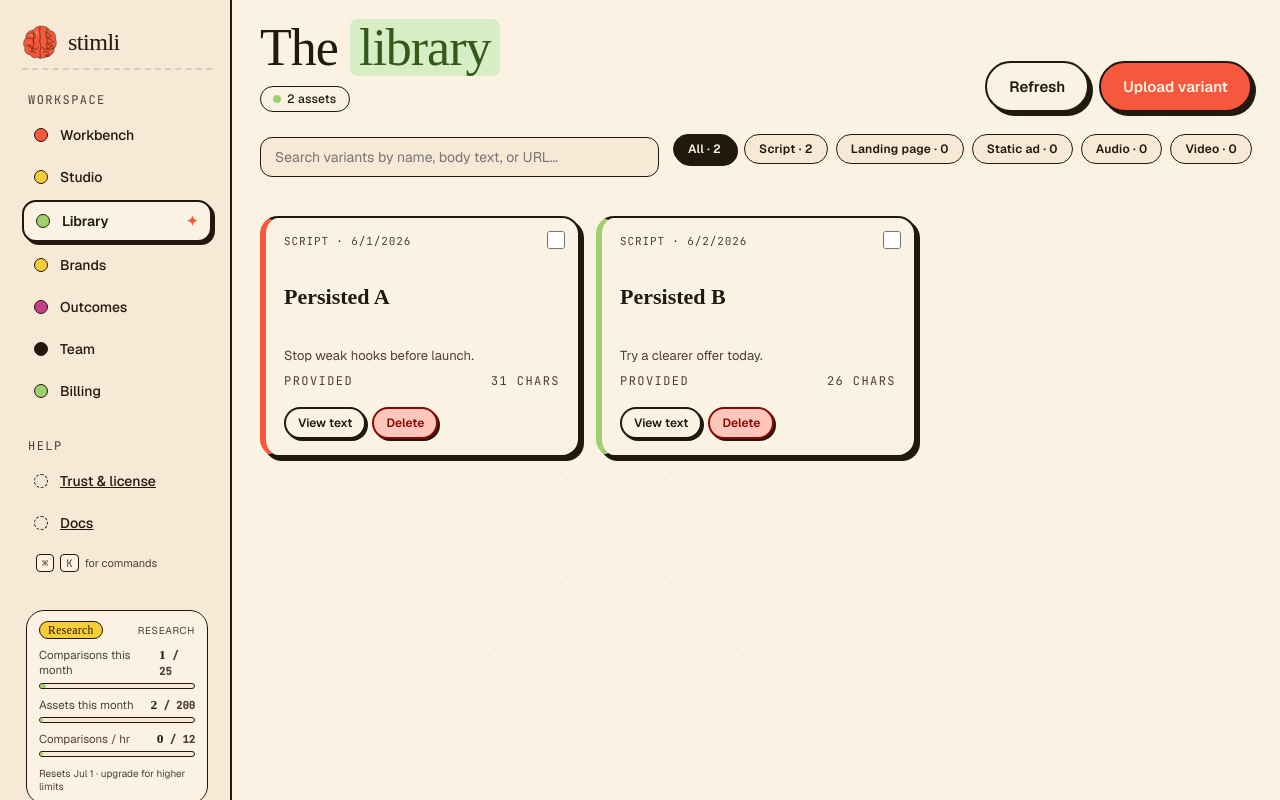
AppShell routing and shell flows › clears library selections that are hidden by search
Expected: the heading "Persisted A" is shown, [284,284,390,309]
Expected: the heading "Persisted B" is shown, [620,284,726,309]
Click the label named "Select Persisted A" at (556, 240), box [547,231,565,249]
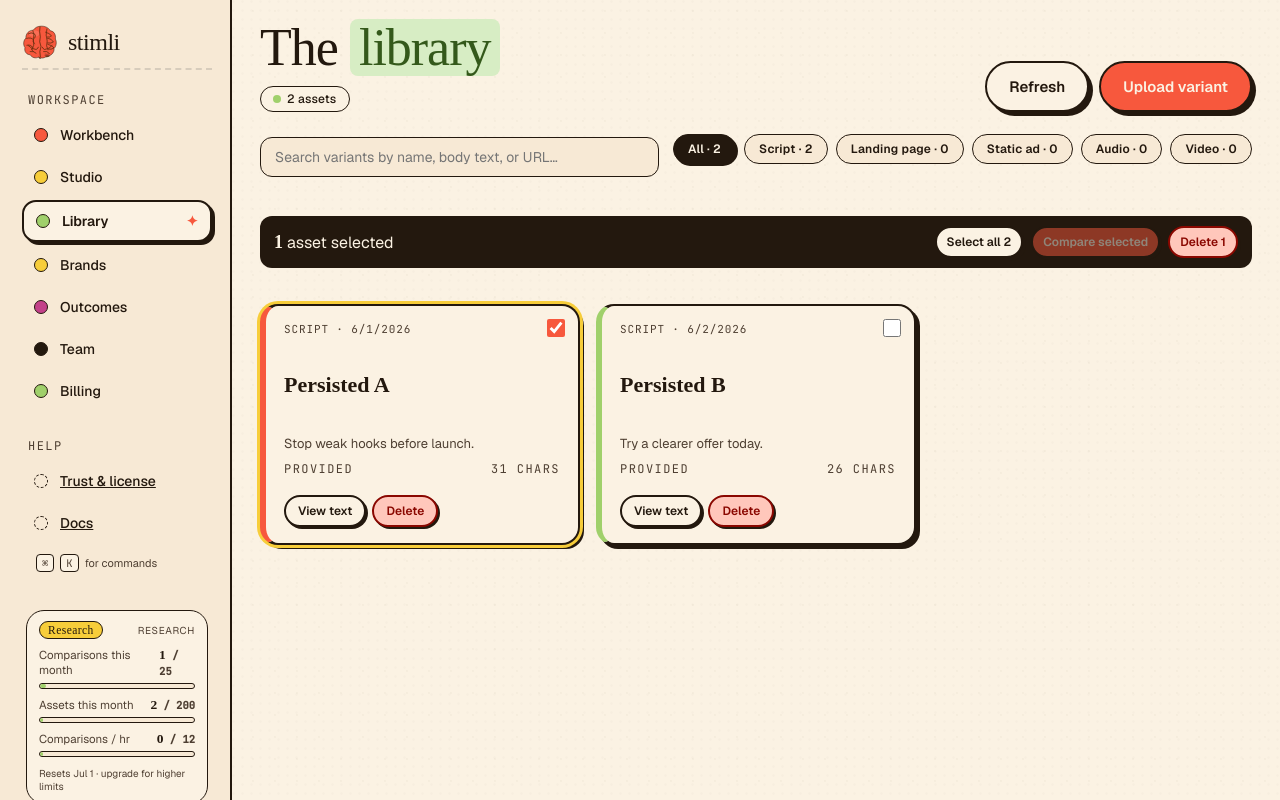
Click the label named "Select Persisted B" at (892, 328), box [883,319,901,337]
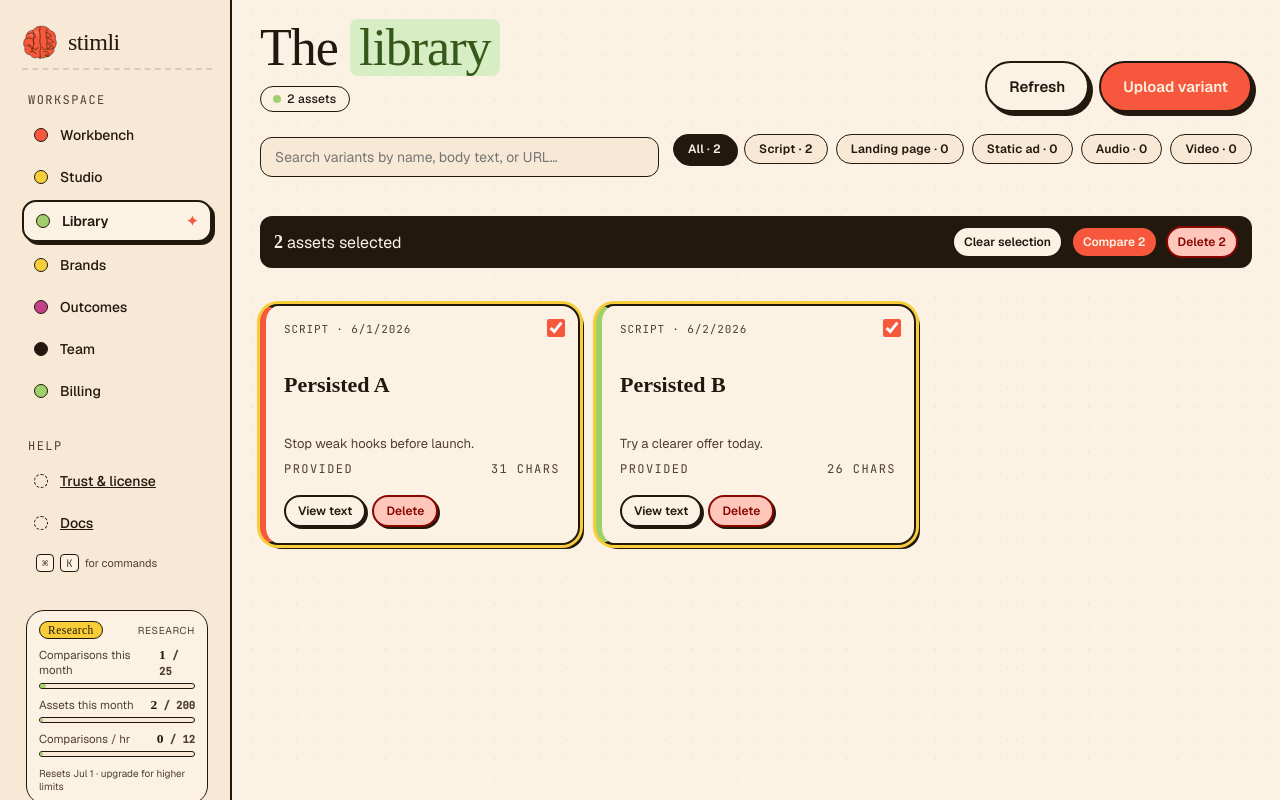
Now the element named "bulk actions" reads "2 assets selected Clear selection Compare 2 Delete 2", box [260,216,1252,268]
Type "Persisted A" into the search field named "search library" at (460, 157), box [260,137,659,177]
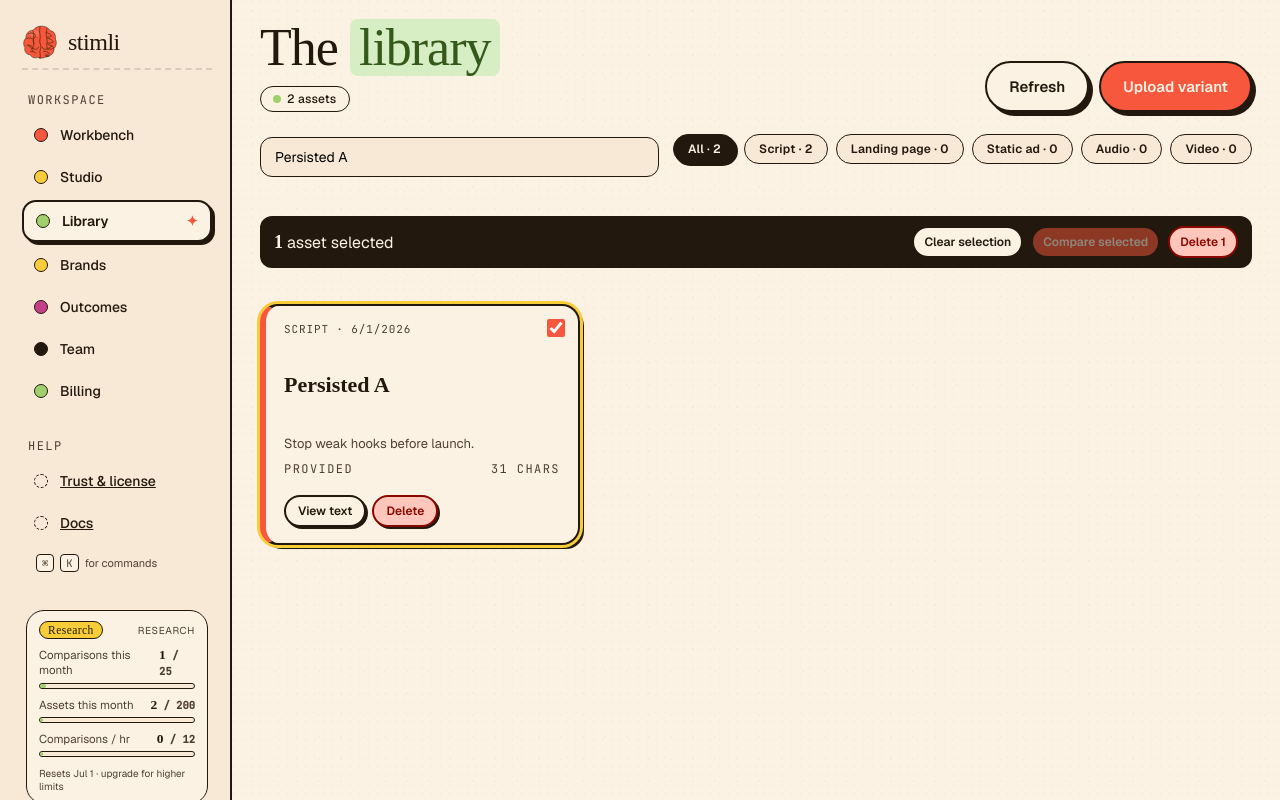
Now the element named "bulk actions" reads "1 asset selected Clear selection Compare selected Delete 1", box [260,216,1252,268]
Now the button "Delete 1" is shown, box [1168,226,1238,258]
